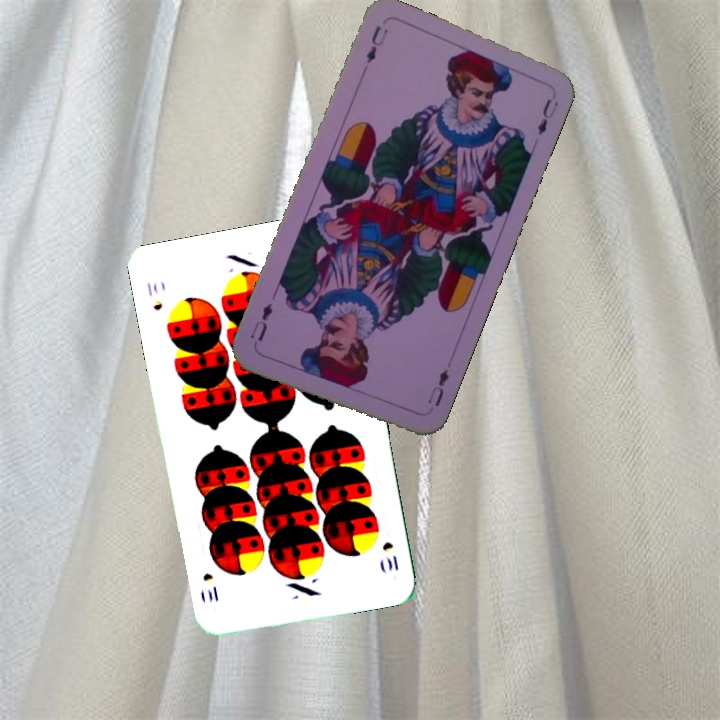EU: (362, 21, 391, 66), (423, 365, 452, 409)
S10: (378, 537, 401, 574), (143, 278, 165, 313)
